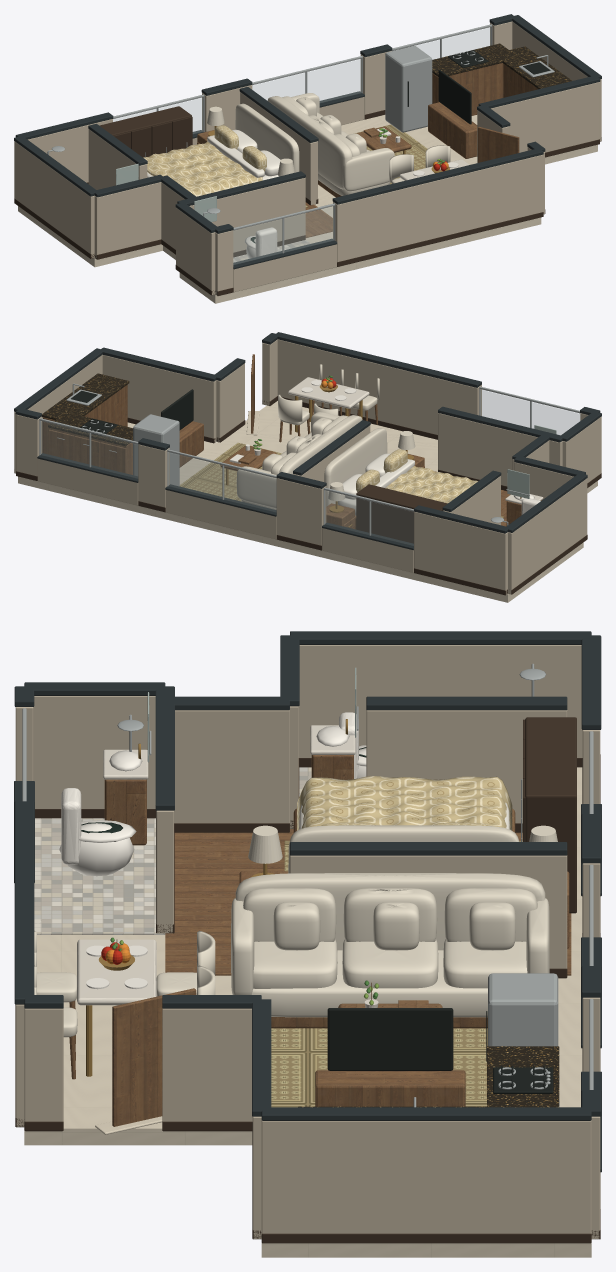
File: aristo-08.glb
The picture shows the model from 3 angles, top to bottom: view 1: azimuth 30°, elevation 25°; view 2: azimuth 150°, elevation 25°; view 3: azimuth 270°, elevation 25°; orthographic projection. The views are drawn at different scales.
Parts seen in each view (by area): view 1: Ivory masonry.008, Apartment foundation, Ivory masonry.005, Ivory masonry.014, Ivory masonry.018, Ivory masonry.013, Brushed refrigerator, Soft jacquard duvet with folds.003, Cutaway window glazing.002, Cutaway window glazing.001, Window sill.002, Ivory masonry.010 (+50 smaller); view 2: Ivory masonry.008, Apartment foundation, Ivory masonry, Ivory masonry.014, Ivory masonry.018, Ivory masonry.005, Cutaway window glazing.001, Cutaway window glazing.003, Cutaway window glazing, Dark fitted wardrobe, Ivory masonry.001, Window sill.001 (+51 smaller); view 3: Ivory masonry.004, Apartment foundation, Ivory masonry.014, Ivory masonry.012, Ivory masonry.015, Ivory masonry.010, Ivory masonry.006, Soft jacquard duvet with folds.003, Television.001, Ivory masonry.017, Bedroom 1 · timber floor, Dark fitted wardrobe (+59 smaller).
Part boxes in pixels (x1,y1,x2,y2): Ivory masonry.008: (333, 154, 543, 262); Apartment foundation: (18, 115, 597, 303); Ivory masonry.005: (491, 82, 599, 152); Ivory masonry.014: (14, 141, 94, 258); Ivory masonry.018: (190, 177, 305, 252); Ivory masonry.013: (94, 182, 161, 258); Brushed refrigerator: (385, 46, 432, 132); Soft jacquard duvet with folds.003: (143, 141, 262, 196); Cutaway window glazing.002: (233, 206, 333, 264); Cutaway window glazing.001: (252, 59, 361, 102); Window sill.002: (233, 244, 336, 292); Ivory masonry.010: (176, 207, 215, 295); Ivory masonry.008: (277, 339, 481, 434); Apartment foundation: (18, 401, 597, 602); Ivory masonry: (414, 511, 507, 594); Ivory masonry.014: (508, 478, 587, 594); Ivory masonry.018: (438, 413, 559, 486); Ivory masonry.005: (102, 354, 216, 441); Cutaway window glazing.001: (168, 452, 276, 511); Cutaway window glazing.003: (41, 421, 137, 478); Cutaway window glazing: (325, 491, 413, 545); Dark fitted wardrobe: (356, 484, 447, 543); Ivory masonry.001: (276, 478, 326, 545); Window sill.001: (165, 490, 276, 539); Ivory masonry.004: (261, 1120, 591, 1233); Apartment foundation: (24, 767, 591, 1257); Ivory masonry.014: (298, 645, 582, 757); Ivory masonry.012: (174, 710, 289, 823); Ivory masonry.015: (366, 710, 567, 823); Ivory masonry.010: (33, 696, 155, 808); Ivory masonry.006: (162, 1008, 252, 1121); Soft jacquard duvet with folds.003: (297, 776, 512, 830); Television.001: (327, 1008, 453, 1070); Ivory masonry.017: (290, 855, 567, 968); Bedroom 1 · timber floor: (165, 832, 286, 972); Dark fitted wardrobe: (525, 717, 576, 913).
Bounding box in the file's own units: 9.31 × 1.37 × 4.78.
Materials: 24 (6 with a texture image).
